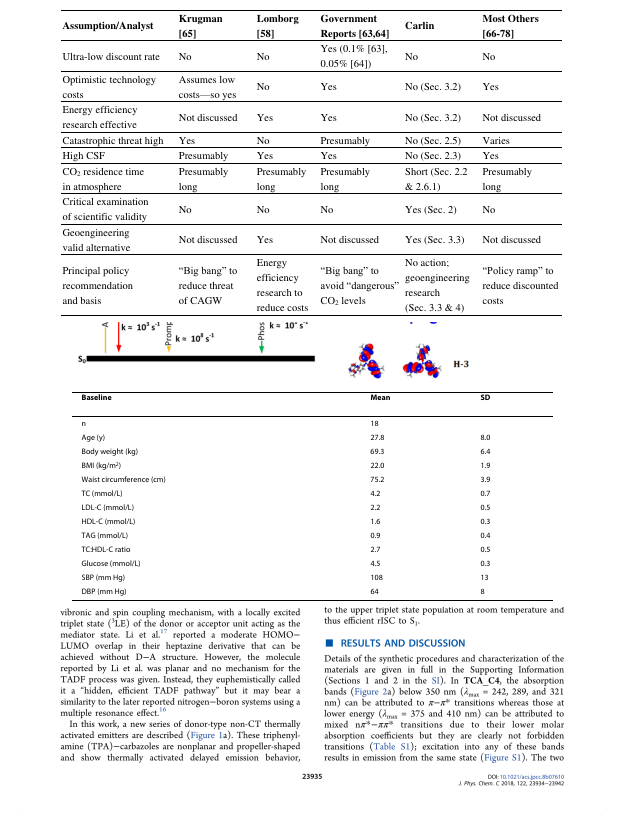borderless: (61, 8, 562, 315), (71, 390, 553, 600)
cell: (404, 256, 471, 315), (320, 262, 400, 308), (481, 262, 560, 307), (61, 264, 134, 307), (256, 256, 309, 315), (178, 262, 238, 307), (61, 73, 157, 101), (61, 195, 150, 224), (61, 165, 145, 193), (61, 103, 138, 132), (320, 11, 390, 40), (320, 42, 389, 71), (61, 226, 131, 254), (404, 165, 469, 193), (481, 11, 540, 40), (178, 73, 237, 102), (481, 165, 533, 193), (178, 165, 229, 193), (256, 165, 307, 193), (320, 165, 371, 193), (61, 134, 164, 147), (178, 11, 224, 40), (61, 19, 154, 33), (61, 50, 161, 63), (256, 11, 300, 40), (404, 233, 466, 247), (81, 475, 167, 485), (481, 233, 542, 247), (178, 233, 238, 247), (320, 233, 380, 247), (404, 80, 462, 94), (404, 149, 462, 163), (481, 111, 542, 124), (178, 111, 238, 124), (404, 111, 462, 124), (404, 134, 462, 147), (178, 149, 229, 163), (404, 203, 458, 216), (320, 134, 371, 147), (61, 149, 106, 163), (81, 559, 142, 569), (81, 447, 139, 457), (81, 517, 136, 527), (81, 503, 135, 513), (81, 545, 131, 555), (81, 531, 129, 541), (81, 587, 127, 597), (81, 573, 126, 583), (404, 19, 435, 33), (81, 489, 123, 499), (81, 461, 122, 471), (481, 134, 511, 147), (481, 80, 500, 94), (481, 149, 500, 163), (81, 393, 113, 401), (320, 80, 338, 94), (256, 149, 274, 163), (320, 149, 338, 163), (256, 233, 274, 247), (81, 433, 106, 443), (256, 111, 274, 124), (320, 111, 338, 124), (178, 134, 196, 147), (256, 80, 271, 94), (178, 50, 193, 63), (256, 50, 271, 63), (404, 50, 419, 63), (481, 50, 496, 63), (256, 134, 271, 147), (178, 203, 193, 216), (256, 203, 271, 216), (481, 203, 496, 216), (320, 203, 334, 216), (369, 393, 391, 401), (369, 433, 385, 443), (369, 447, 385, 457), (369, 461, 385, 471), (369, 475, 385, 485), (369, 573, 384, 583), (479, 433, 491, 443), (479, 447, 491, 457), (479, 461, 491, 471), (479, 475, 491, 485), (369, 489, 381, 499), (479, 489, 491, 499), (369, 503, 381, 513), (479, 503, 491, 513), (369, 517, 381, 527), (479, 517, 491, 527), (369, 531, 381, 541), (479, 531, 491, 541), (369, 545, 381, 555), (479, 545, 491, 555), (369, 559, 381, 569), (369, 419, 380, 429), (480, 559, 491, 569), (479, 573, 490, 583), (369, 587, 380, 597), (479, 393, 491, 401), (479, 587, 486, 597), (81, 419, 87, 429)
